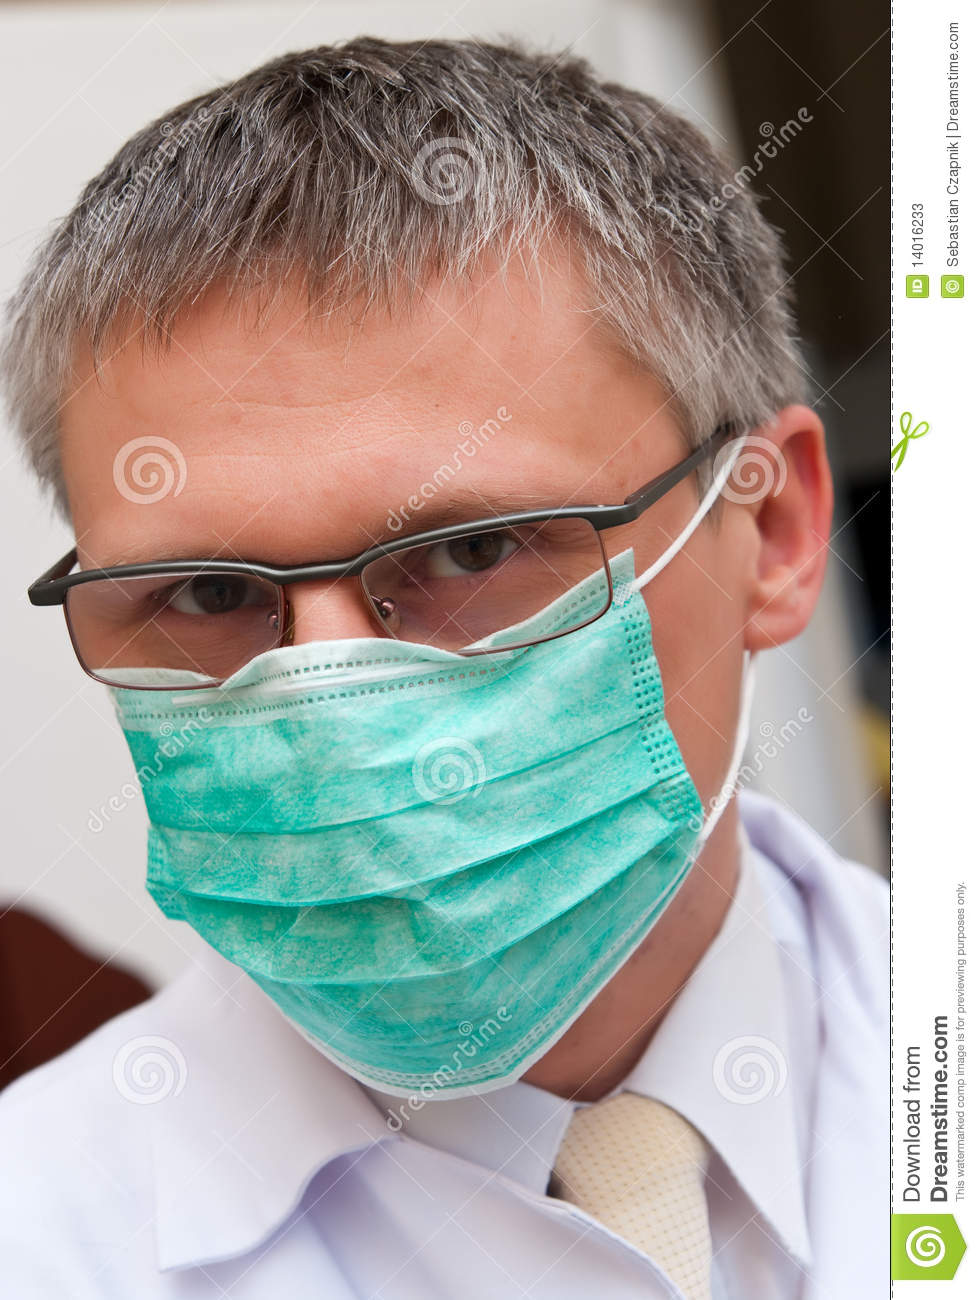mask: (109, 551, 705, 1091)
